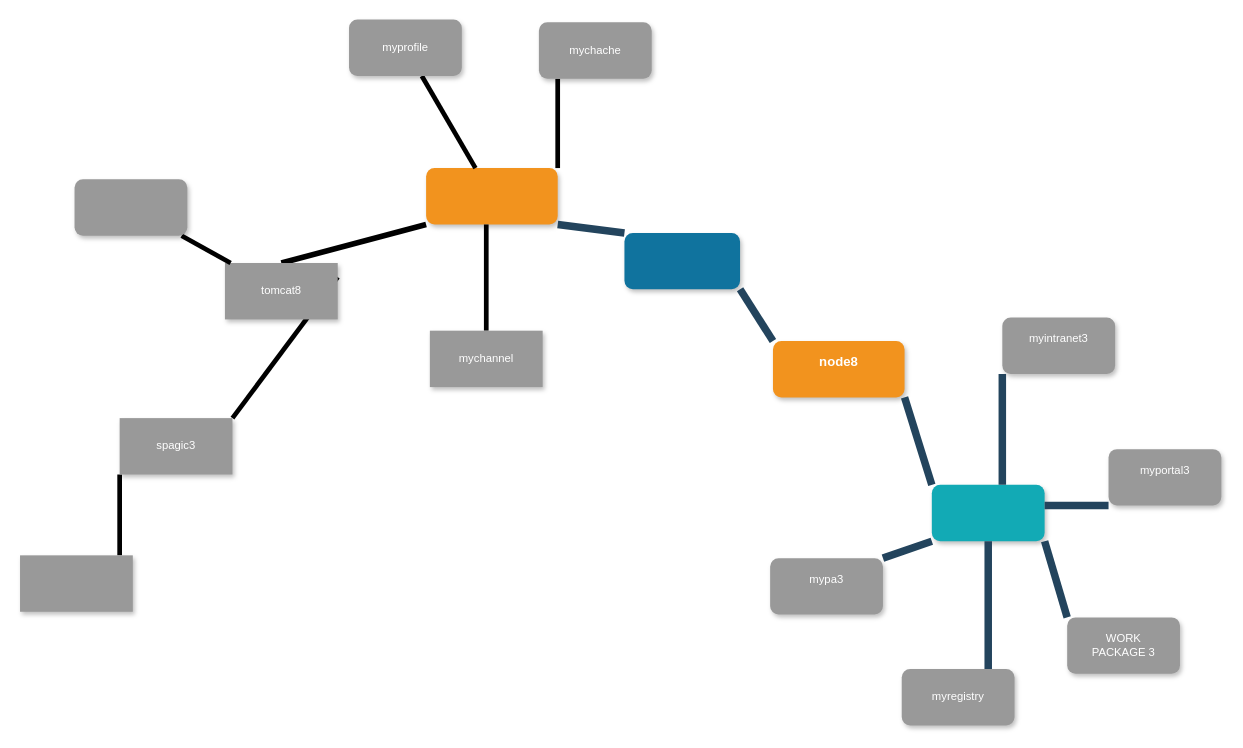
The diagram is 1243 pixels wide and 748 high, and some of its shapes have lost their labels. Here are the shapes that lost their labels. From the top down, the centre of each, then its label:
At (x=131, y=208): "myrecord".
At (x=492, y=197): "jdk8".
At (x=682, y=262): "base".
At (x=989, y=514): "node_modules".
At (x=77, y=584): "mybus".
